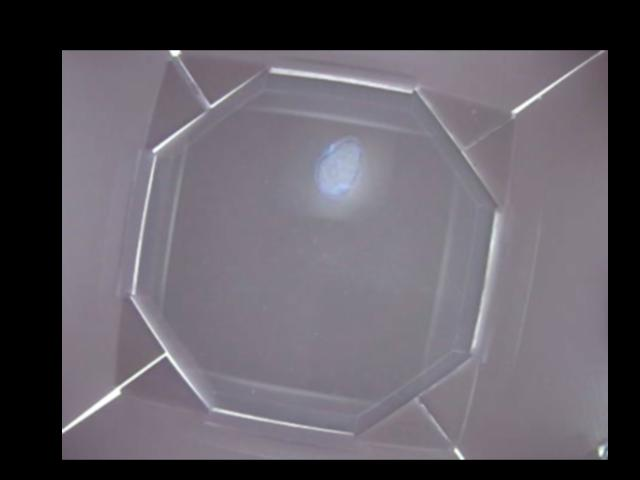Pebble: (317, 134, 363, 199)
